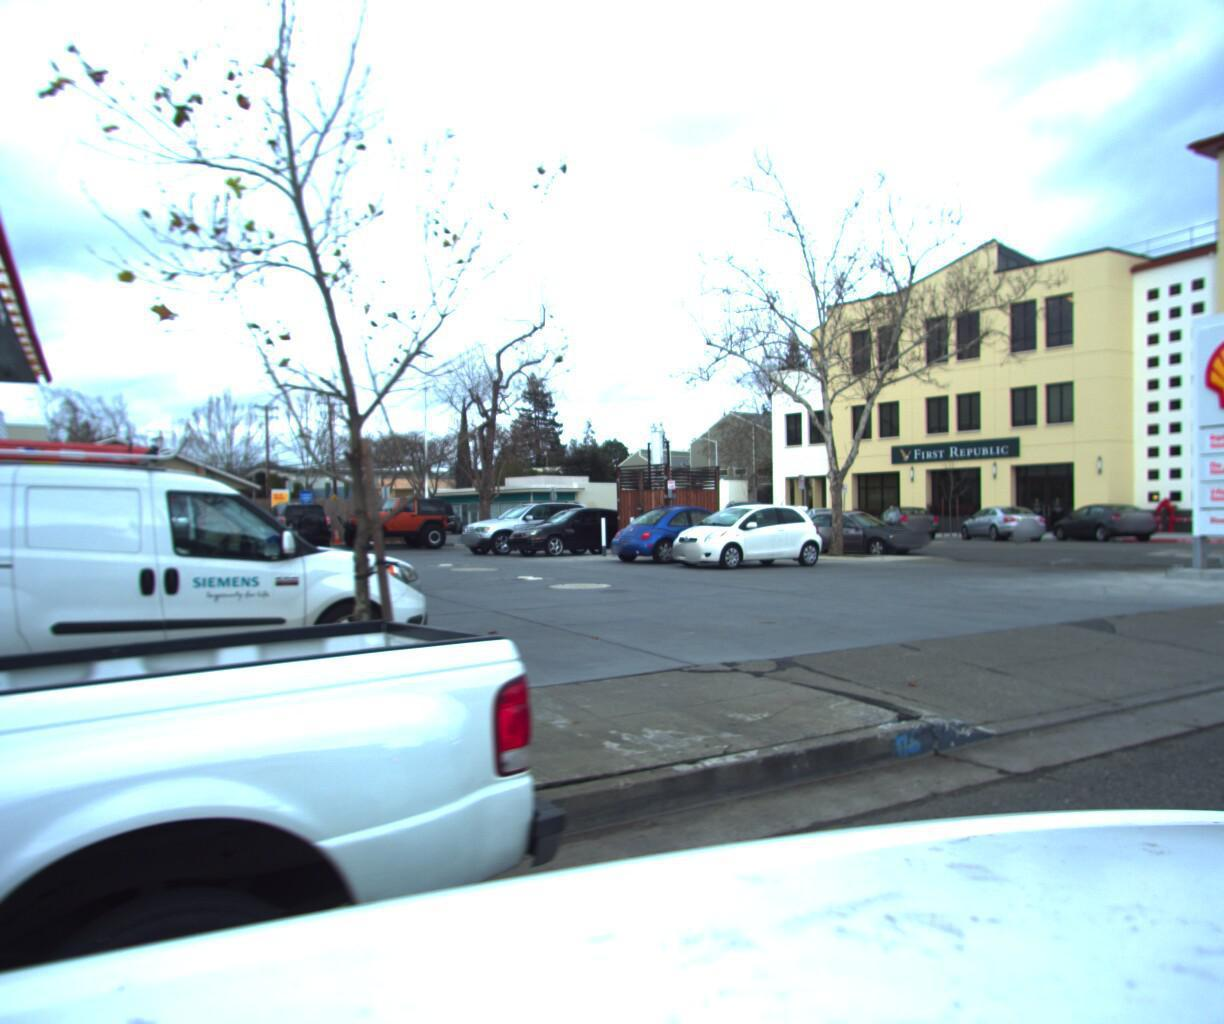car: (661, 495, 834, 567), (599, 495, 771, 563), (451, 492, 607, 552), (774, 500, 940, 554), (496, 498, 646, 552), (335, 489, 466, 545), (1052, 496, 1171, 538), (256, 494, 340, 549), (958, 498, 1058, 536), (869, 498, 948, 535)
